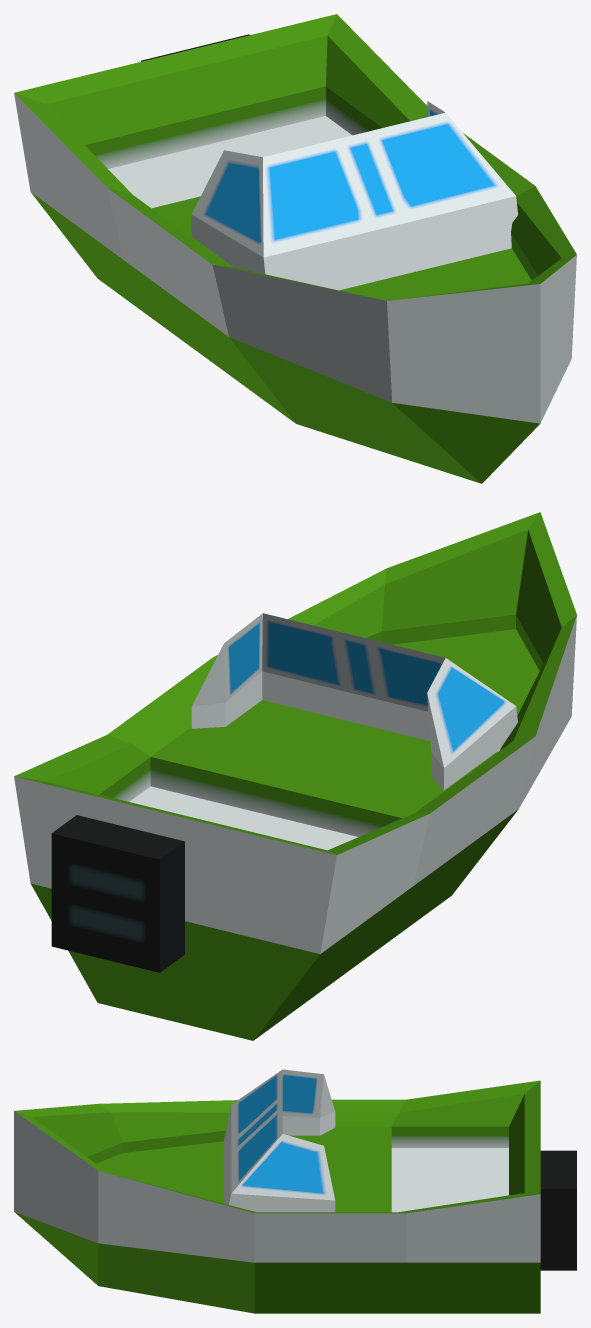
File: boat.fbx
The picture shows the model from 3 angles, top to bottom: view 1: azimuth 30°, elevation 25°; view 2: azimuth 150°, elevation 25°; view 3: azimuth 270°, elevation 25°; orthographic projection. The views are drawn at different scales.
Visible parts, largest first — view 1: boat; view 2: boat; view 3: boat.
Boxes of the visible parts, bbox=[...] form: boat: bbox=[14, 14, 576, 483]; boat: bbox=[14, 512, 576, 1040]; boat: bbox=[14, 1069, 576, 1313].
Size of the model in its own units: 200 by 151 by 418.
Materials: 1 (1 with a texture image).
